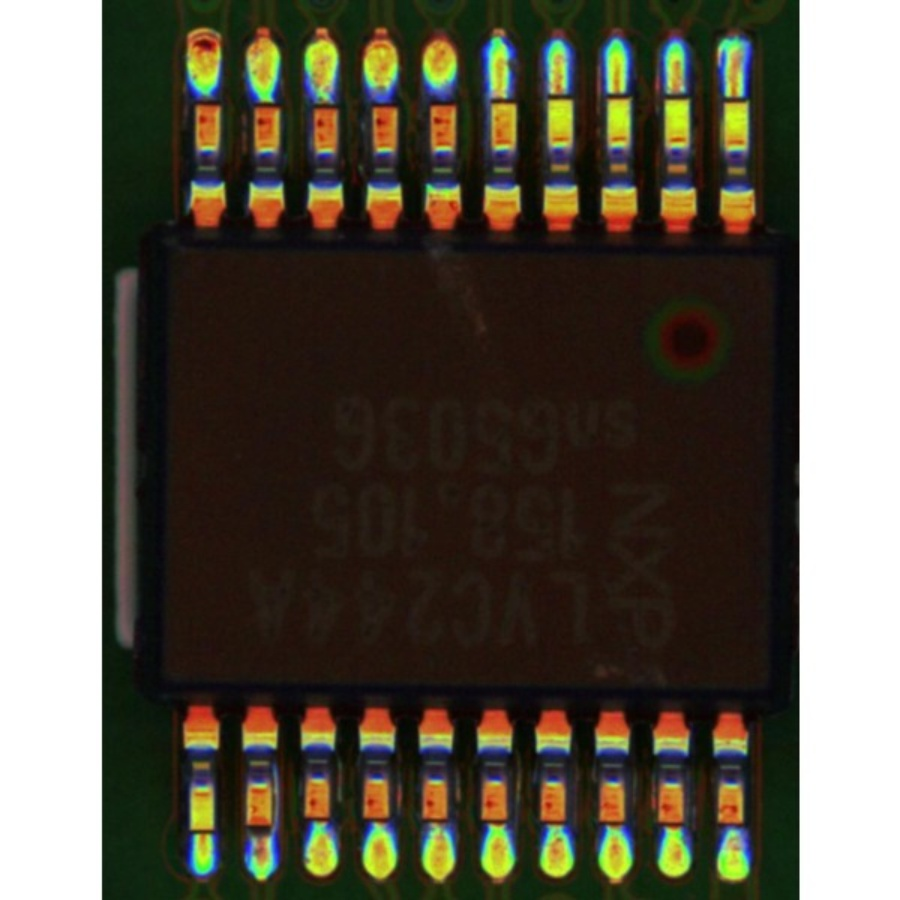Bad_podu: (251, 809, 270, 856), (548, 80, 570, 116), (667, 76, 686, 112), (726, 80, 744, 114), (194, 816, 210, 853), (609, 79, 626, 113), (493, 79, 509, 109)
Bad_qiaojiao: (273, 764, 280, 837)
